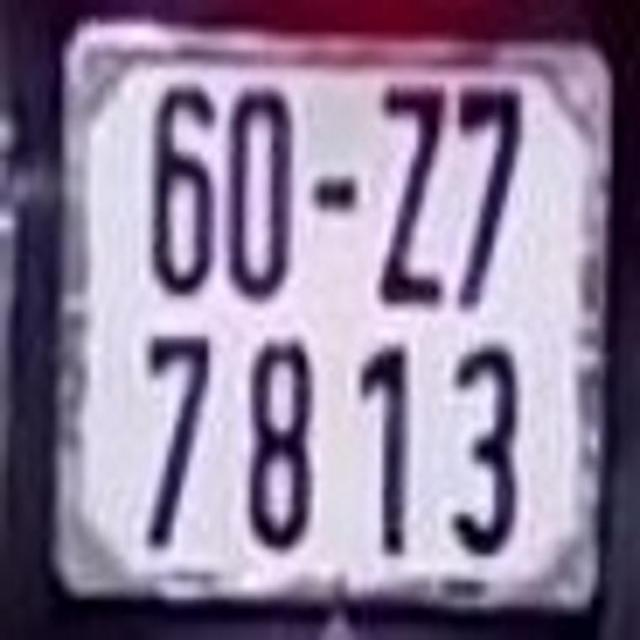0: (226, 91, 294, 296)
1: (358, 350, 414, 562)
3: (451, 340, 516, 554)
6: (155, 89, 215, 296)
7: (455, 78, 524, 316), (147, 334, 216, 560)
8: (245, 338, 315, 549)
Z: (378, 84, 441, 298)
